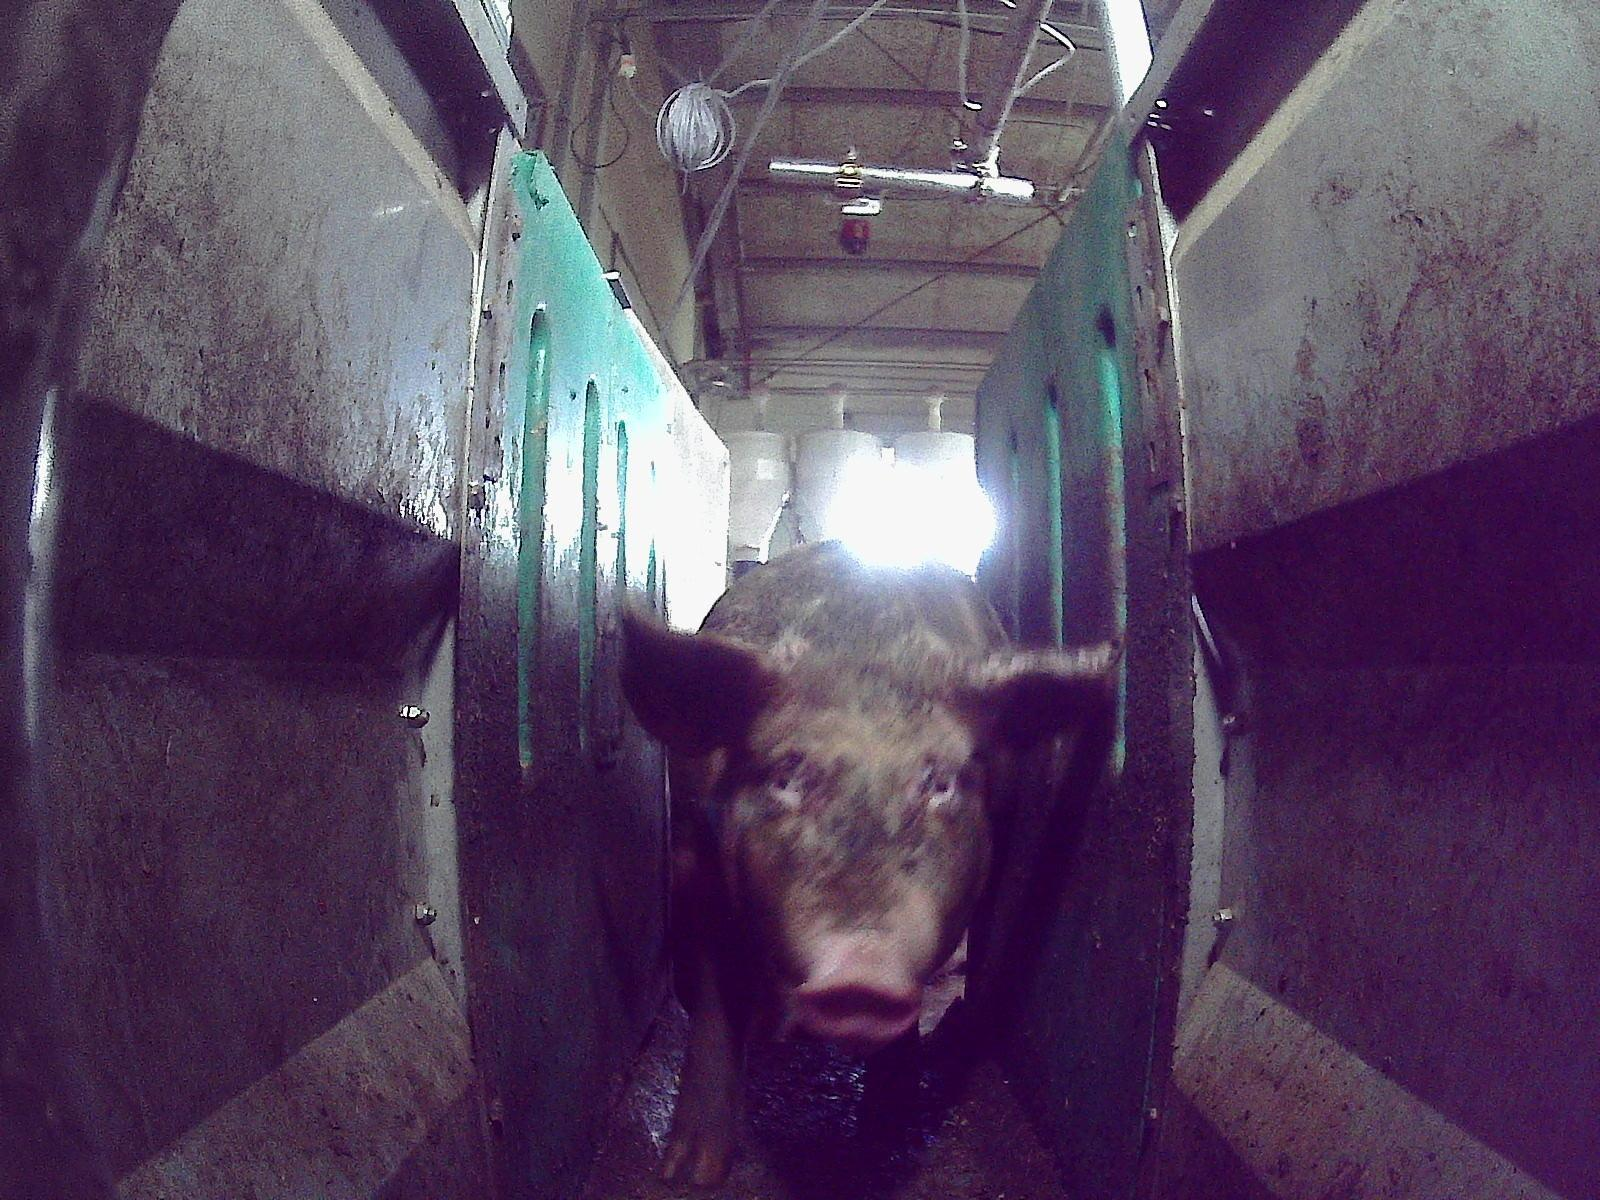Face: (729, 665, 988, 1044)
